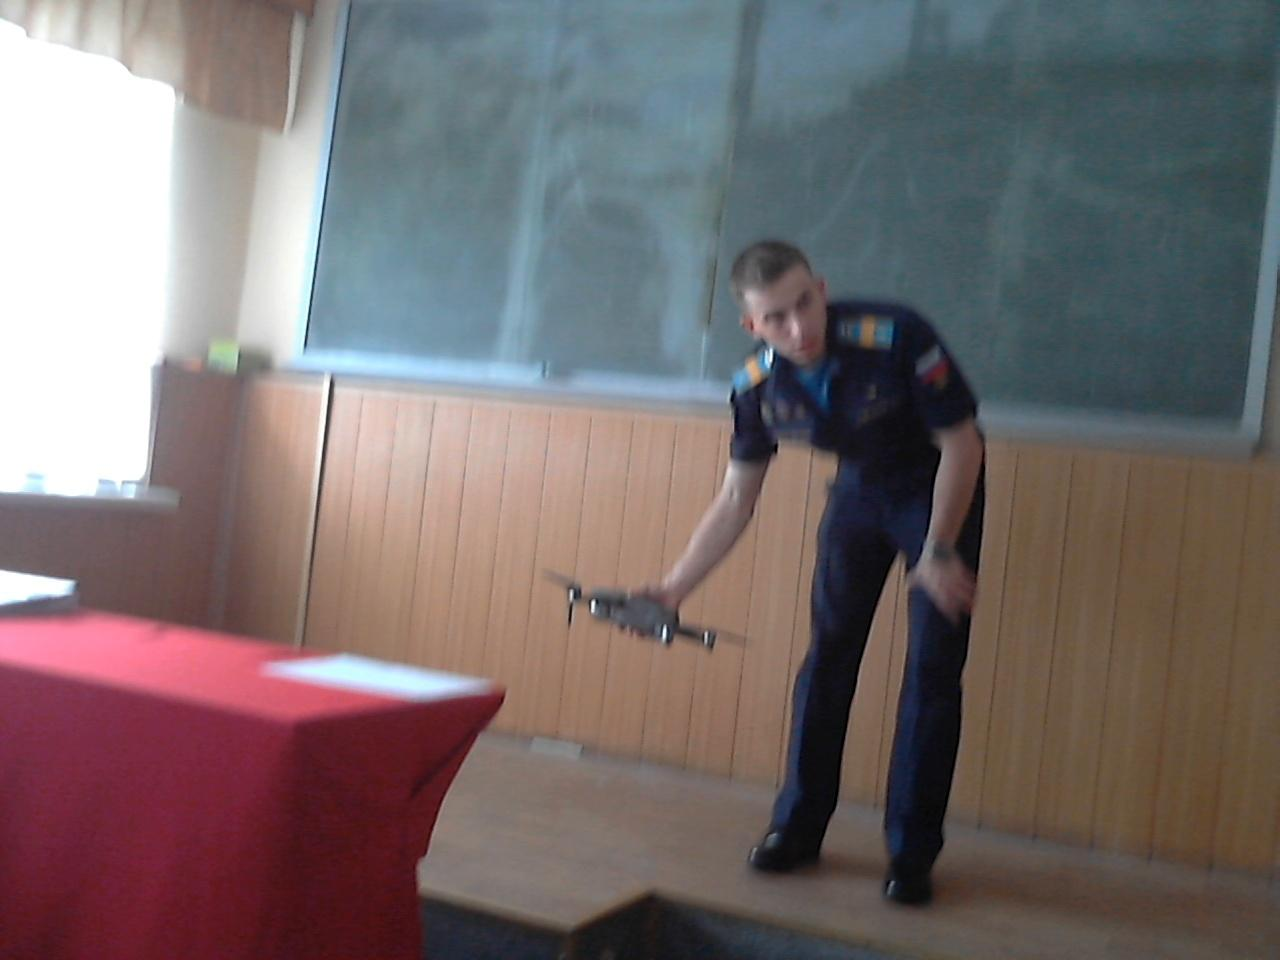drone: (530, 548, 749, 669)
